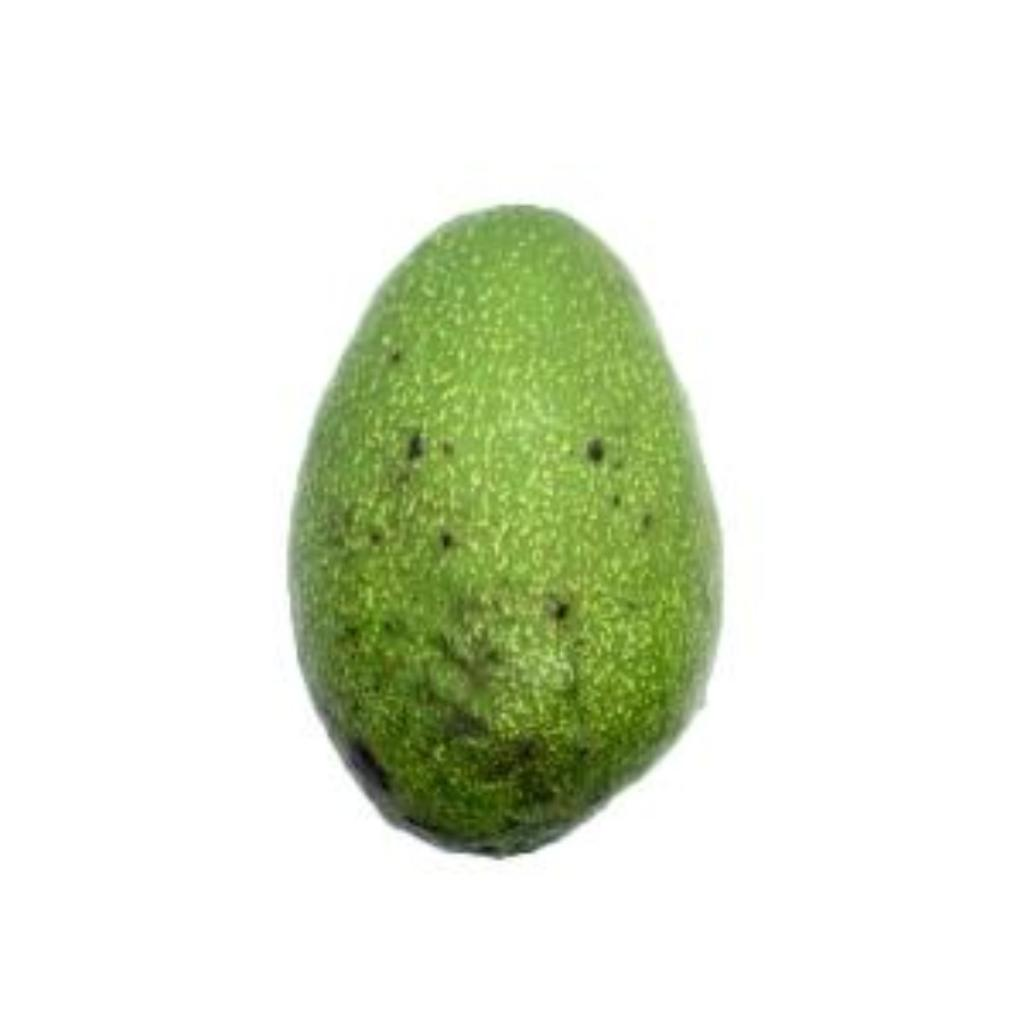cercospora: (277, 193, 765, 859)
